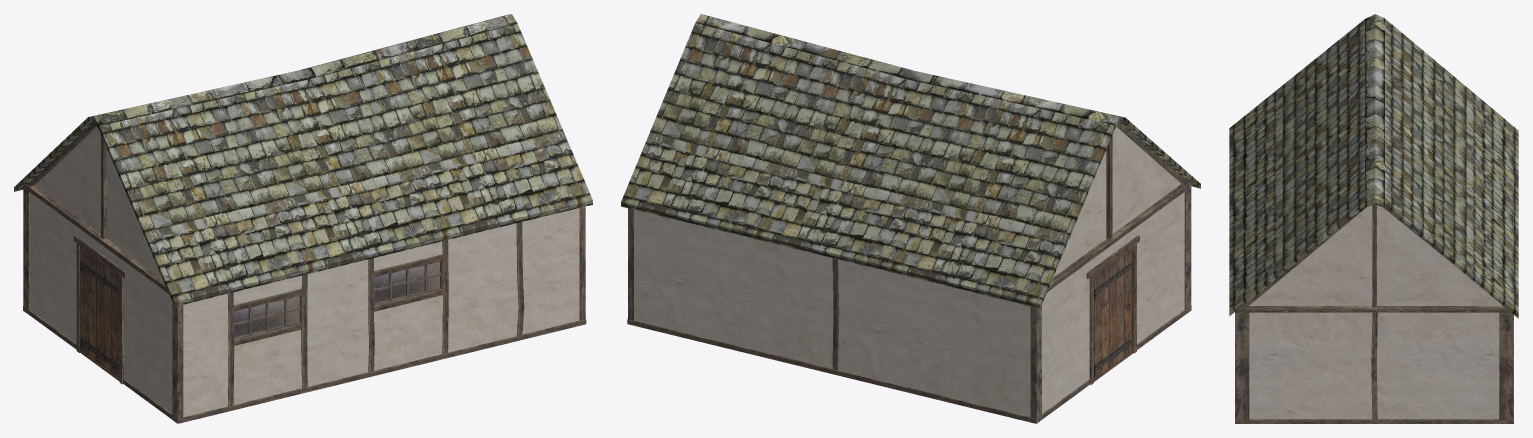
File: House_2.fbx
3 renders of one model, left to right at view 1: azimuth 30°, elevation 25°; view 2: azimuth 150°, elevation 25°; view 3: azimuth 270°, elevation 25°, orthographic. The views are drawn at different scales.
Visible parts, largest first — view 1: Plane_001, Walls_003, Plane_002, Door_001, Window_000, Window_007, Wooden_frame_003; view 2: Plane_001, Walls_003, Plane_002, Door_001, Wooden_frame_003, _Door_parent_001; view 3: Plane_001, Walls_003, Plane_002.
Boxes of the visible parts, bbox=[...] form: Plane_001: bbox=[14, 14, 592, 306]; Walls_003: bbox=[23, 184, 586, 423]; Plane_002: bbox=[27, 122, 162, 278]; Door_001: bbox=[80, 249, 119, 378]; Window_000: bbox=[374, 260, 442, 305]; Window_007: bbox=[234, 294, 301, 339]; Wooden_frame_003: bbox=[73, 235, 126, 384]; Plane_001: bbox=[621, 14, 1200, 308]; Walls_003: bbox=[627, 183, 1191, 423]; Plane_002: bbox=[1053, 122, 1188, 277]; Door_001: bbox=[1094, 249, 1131, 378]; Wooden_frame_003: bbox=[1086, 235, 1139, 384]; _Door_parent_001: bbox=[1094, 246, 1133, 381]; Plane_001: bbox=[1229, 14, 1518, 318]; Walls_003: bbox=[1235, 129, 1513, 423]; Plane_002: bbox=[1241, 202, 1502, 307].
Size of the model in its own units: 1057 by 611 by 702.
